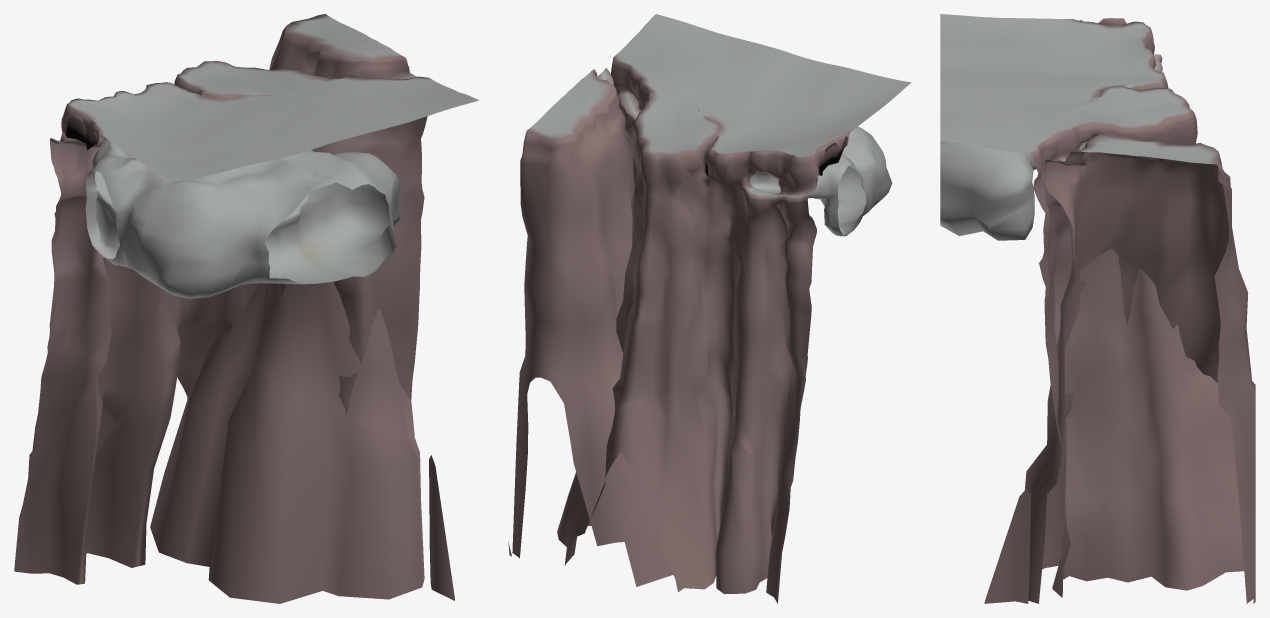
3 renders of one model, left to right at view 1: azimuth 30°, elevation 25°; view 2: azimuth 150°, elevation 25°; view 3: azimuth 270°, elevation 25°, orthographic. The views are drawn at different scales.
Visible parts, largest first — view 1: G:\FFXIV-MapTools\exports\u5f1\bg\ex4\04_uvs_u5\fld\u5f1\bgp (×13); view 2: G:\FFXIV-MapTools\exports\u5f1\bg\ex4\04_uvs_u5\fld\u5f1\bgp (×13); view 3: G:\FFXIV-MapTools\exports\u5f1\bg\ex4\04_uvs_u5\fld\u5f1\bgp (×12).
Boxes of the visible parts, x1,y1,x2,y2 form: G:\FFXIV-MapTools\exports\u5f1\bg\ex4\04_uvs_u5\fld\u5f1\bgp (×13): [14, 14, 479, 603]; G:\FFXIV-MapTools\exports\u5f1\bg\ex4\04_uvs_u5\fld\u5f1\bgp (×13): [508, 14, 911, 603]; G:\FFXIV-MapTools\exports\u5f1\bg\ex4\04_uvs_u5\fld\u5f1\bgp (×12): [940, 14, 1255, 603].
Bounding box in the file's own units: 128 × 207 × 128.
